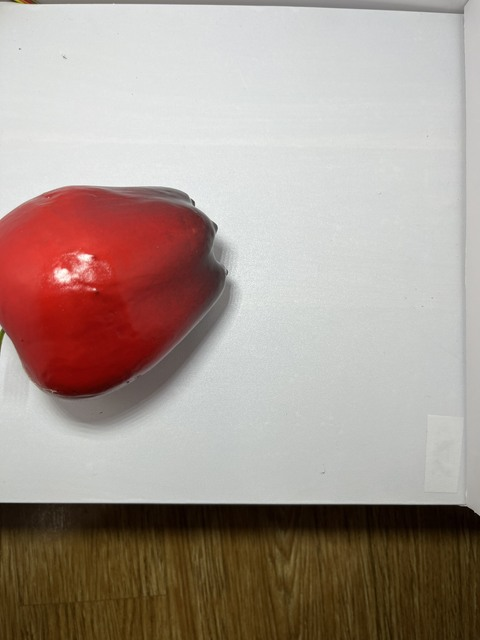Tao: (0, 179, 232, 406)
